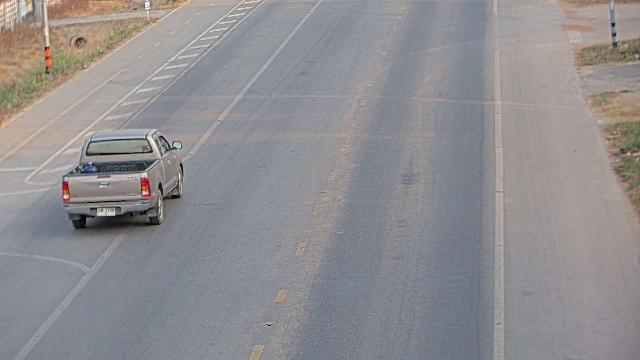pickup-truck: (60, 127, 184, 229)
